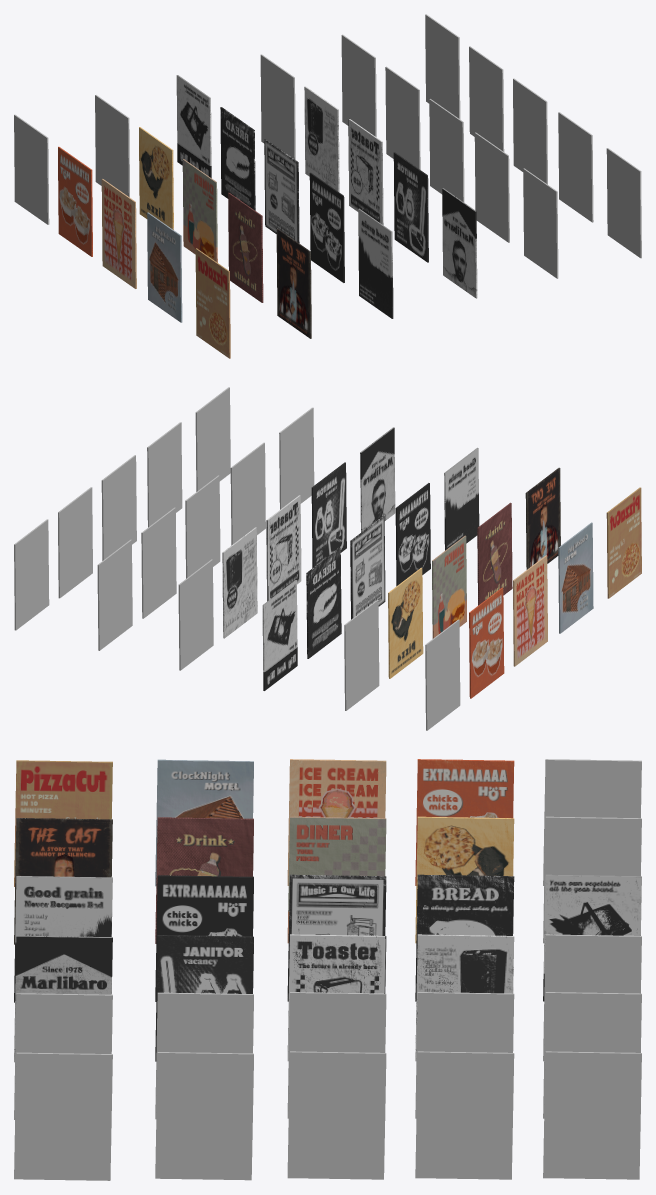
Rendered from posters.fbx.
3 renders of one model, top to bottom at view 1: azimuth 30°, elevation 25°; view 2: azimuth 150°, elevation 25°; view 3: azimuth 270°, elevation 25°, orthographic. The views are drawn at different scales.
Visible parts, largest first — view 1: Plane.001, Plane.018, Plane.020, Plane.028, Plane, Plane.002, Plane.004, Plane.009, Plane.010, Plane.019, Plane.029, Plane.003 (+18 smaller); view 2: Plane.004, Plane.024, Plane.025, Plane, Plane.001, Plane.015, Plane.023, Plane.026, Plane.003, Plane.005, Plane.006, Plane.013 (+18 smaller); view 3: Plane.017, Plane.016, Plane.015, Plane.019, Plane.018, Plane.011, Plane.013, Plane.012, Plane.014, Plane.010, Plane.023, Plane.021 (+18 smaller).
Boxes of the visible parts, <box> form: Plane.001: <box>147,212,182,322</box>; Plane.018: <box>558,112,593,222</box>; Plane.020: <box>523,168,558,278</box>; Plane.028: <box>393,152,428,262</box>; Plane: <box>195,248,230,358</box>; Plane.002: <box>101,179,136,288</box>; Plane.004: <box>14,114,49,224</box>; Plane.009: <box>276,228,311,338</box>; Plane.010: <box>358,208,393,318</box>; Plane.019: <box>606,148,641,258</box>; Plane.029: <box>442,188,477,298</box>; Plane.003: <box>58,146,92,256</box>; Plane.004: <box>425,619,460,730</box>; Plane.024: <box>97,539,132,650</box>; Plane.025: <box>178,559,213,670</box>; Plane: <box>606,487,641,598</box>; Plane.001: <box>558,522,593,633</box>; Plane.015: <box>14,519,49,630</box>; Plane.023: <box>141,507,176,618</box>; Plane.026: <box>222,527,257,638</box>; Plane.003: <box>469,587,504,698</box>; Plane.005: <box>344,600,379,710</box>; Plane.006: <box>388,567,423,678</box>; Plane.013: <box>306,547,341,658</box>; Plane.017: <box>287,1051,386,1179</box>; Plane.016: <box>415,1051,514,1179</box>; Plane.015: <box>543,1051,641,1179</box>; Plane.019: <box>14,1052,112,1180</box>; Plane.018: <box>155,1052,253,1180</box>; Plane.011: <box>155,875,253,1001</box>; Plane.013: <box>415,874,514,1001</box>; Plane.012: <box>287,874,386,1001</box>; Plane.014: <box>543,874,641,1001</box>; Plane.010: <box>14,876,112,1002</box>; Plane.023: <box>415,992,514,1118</box>; Plane.021: <box>155,992,253,1119</box>.
Bounding box in the file's own units: 999 × 204 × 904.
